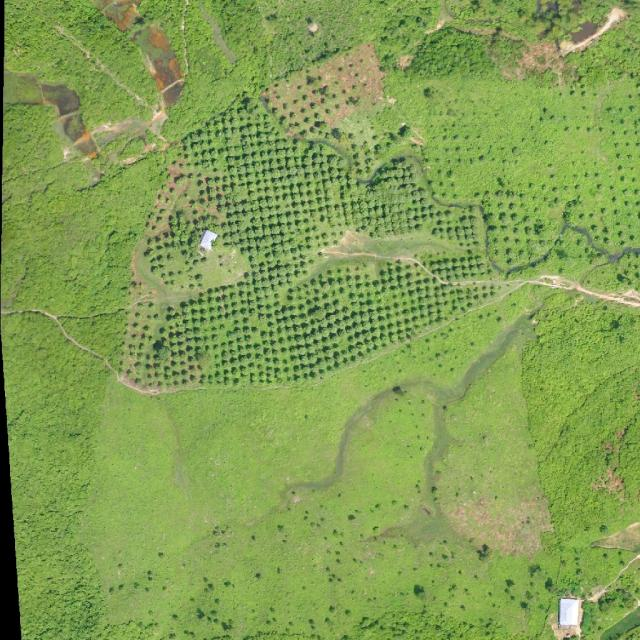building: (559, 597, 580, 626), (198, 229, 219, 252)
dryland: (41, 29, 515, 453), (554, 3, 631, 63), (571, 19, 595, 42)
